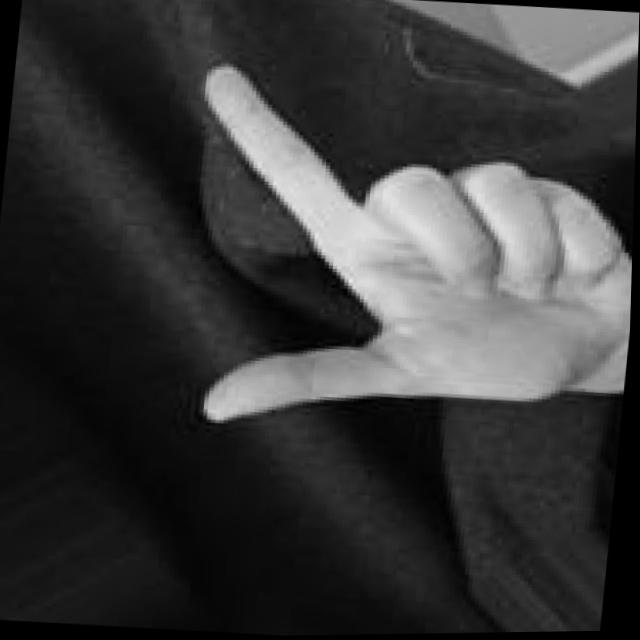L: (153, 49, 638, 462)
